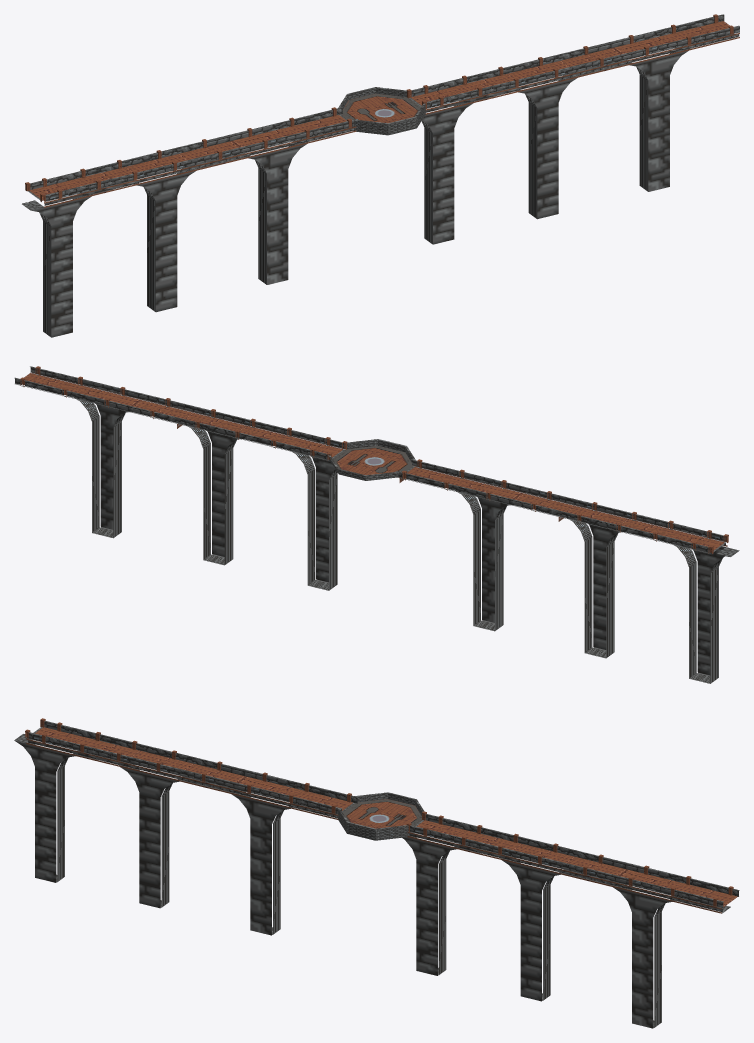
Rendered from Bridge.fbx.
3 renders of one model, top to bottom at view 1: azimuth 30°, elevation 25°; view 2: azimuth 150°, elevation 25°; view 3: azimuth 330°, elevation 25°, orthographic.
Parts seen in each view (by area): view 1: polySurface14, polySurface14.001; view 2: polySurface14, polySurface14.001; view 3: polySurface14, polySurface14.001.
Boxes of the visible parts, x1,y1,x2,y2 form: polySurface14: [338, 14, 739, 244]; polySurface14.001: [22, 107, 358, 337]; polySurface14: [14, 366, 415, 590]; polySurface14.001: [395, 459, 739, 683]; polySurface14: [338, 792, 739, 1028]; polySurface14.001: [14, 718, 358, 935].
Bounding box in the file's own units: 4847 × 946 × 489.
